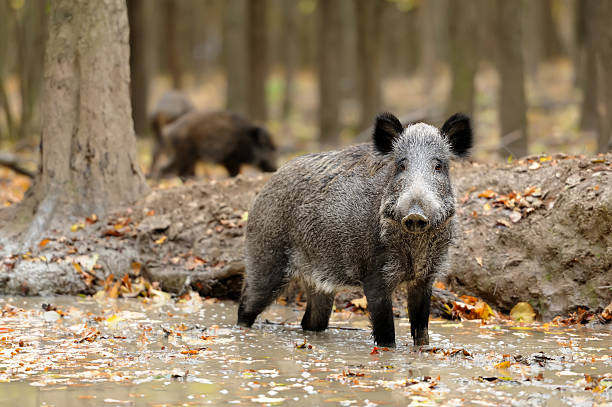pig: (357, 113, 480, 240)
